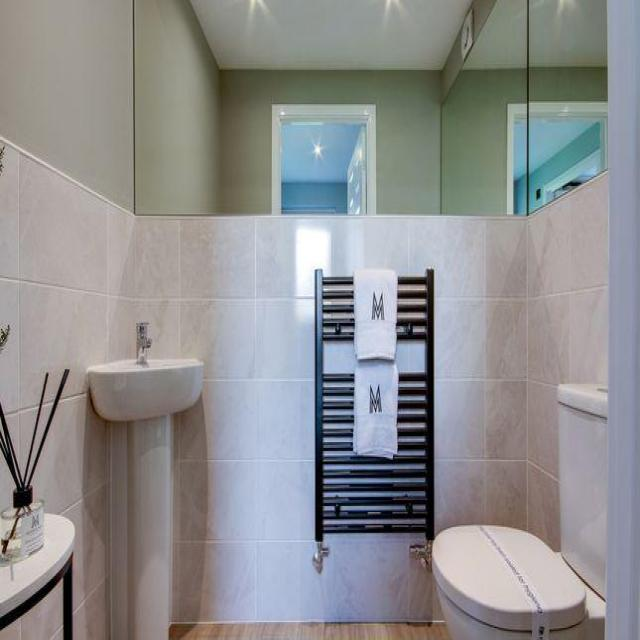Wall: (0, 0, 607, 639), (135, 0, 525, 214), (190, 0, 472, 70), (530, 0, 606, 67), (170, 622, 450, 640), (465, 0, 526, 69), (530, 68, 606, 101), (441, 32, 464, 102), (472, 0, 496, 37)
